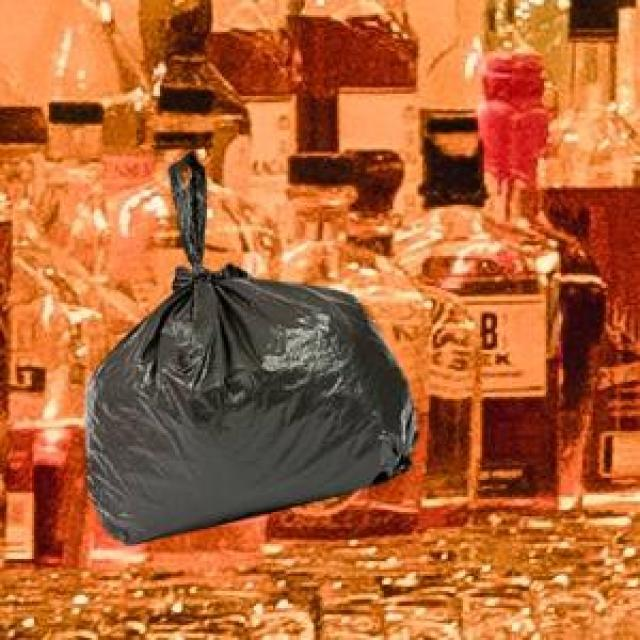waste: (88, 152, 415, 543)
